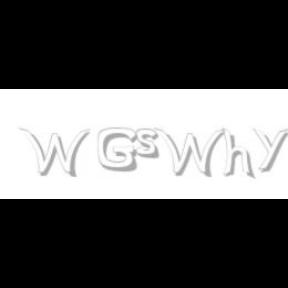G: (97, 128, 137, 172)
W: (18, 128, 90, 178), (153, 128, 225, 178)
h: (222, 128, 256, 180)
s: (136, 128, 164, 160)
